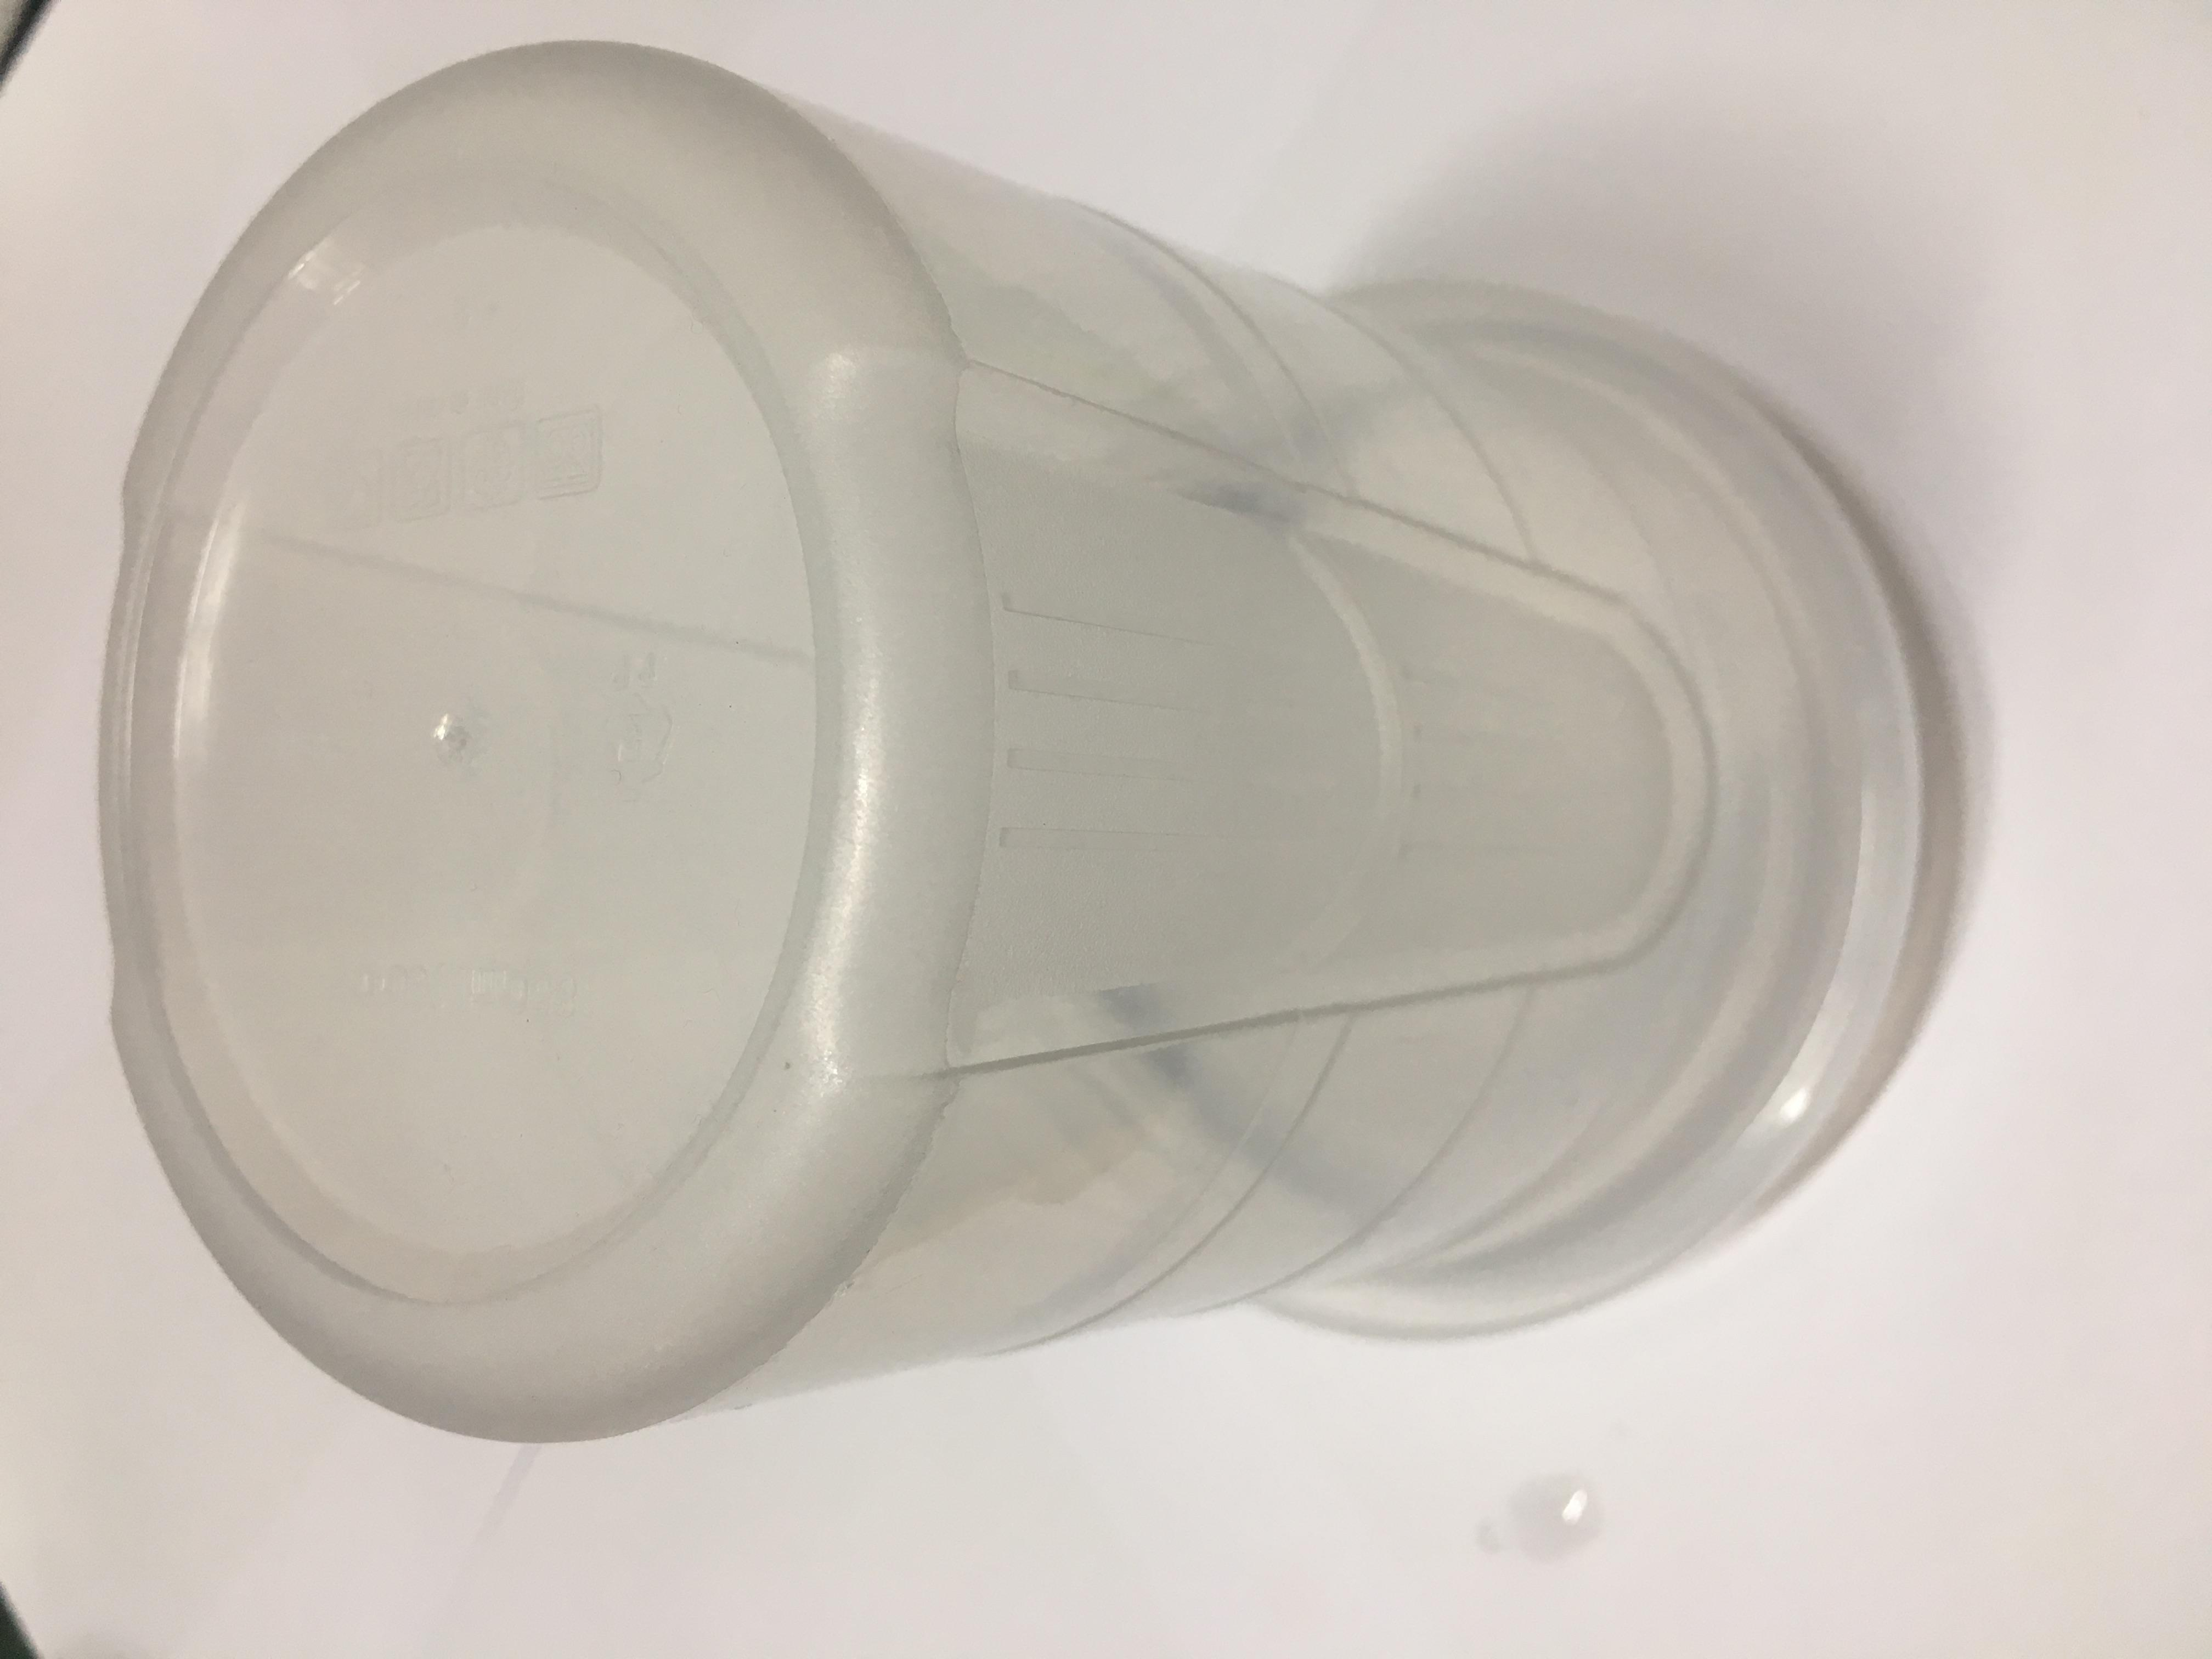bottle: (185, 746, 2177, 816)
